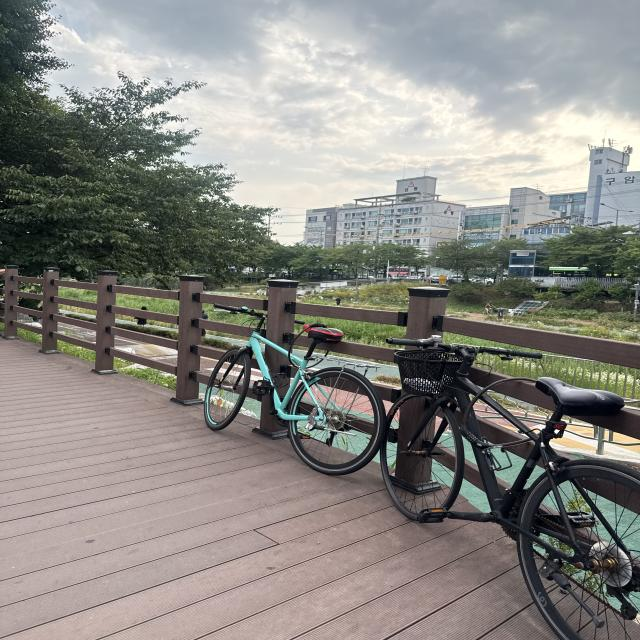bicycle: (347, 310, 640, 640), (176, 283, 391, 483)
